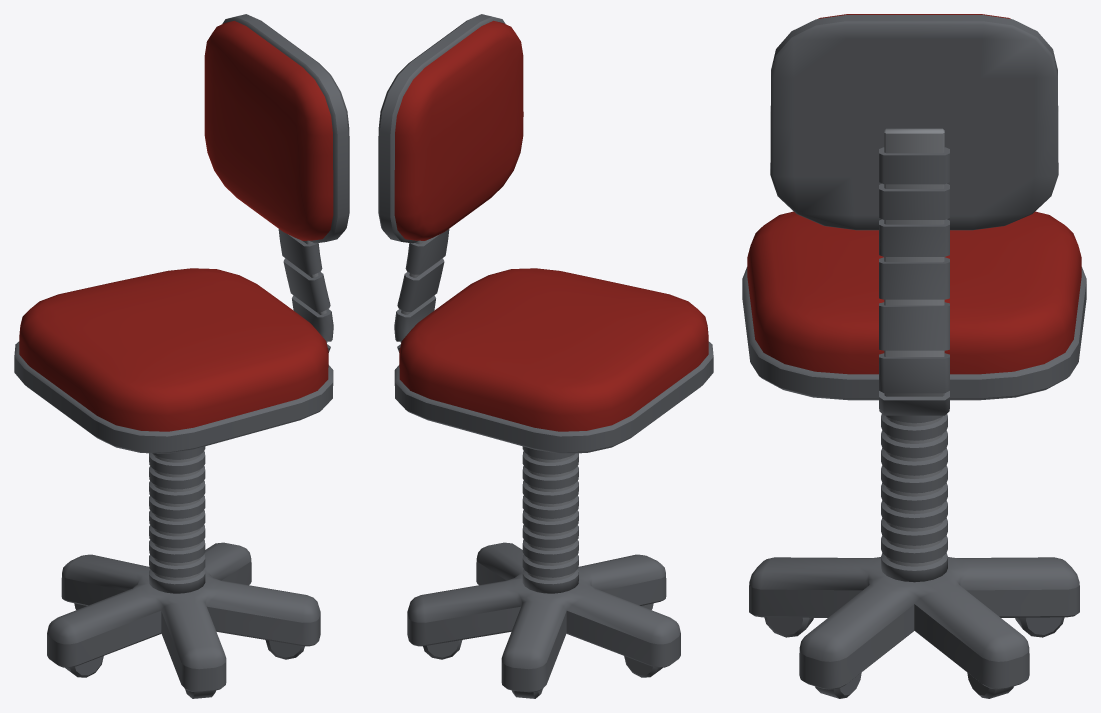
Rendered from Computer_chair.fbx.
The picture shows the model from 3 angles, left to right: view 1: azimuth 30°, elevation 25°; view 2: azimuth 150°, elevation 25°; view 3: azimuth 270°, elevation 25°; orthographic projection. The views are drawn at different scales.
Visible parts, largest first — view 1: Computer_chair; view 2: Computer_chair; view 3: Computer_chair.
Part boxes in pixels (<box>): Computer_chair: <box>14,14,349,698</box>; Computer_chair: <box>378,14,713,698</box>; Computer_chair: <box>742,14,1086,698</box>.
Bounding box in the file's own units: 0.5445 × 1.13 × 0.5099.
